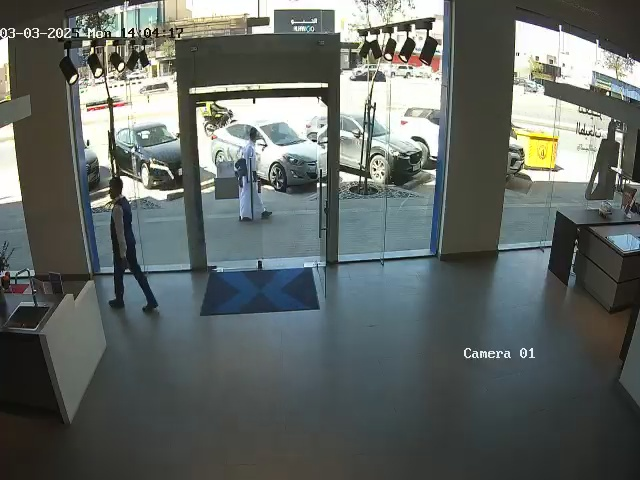employee: (107, 176, 159, 312)
male: (234, 129, 273, 221)
